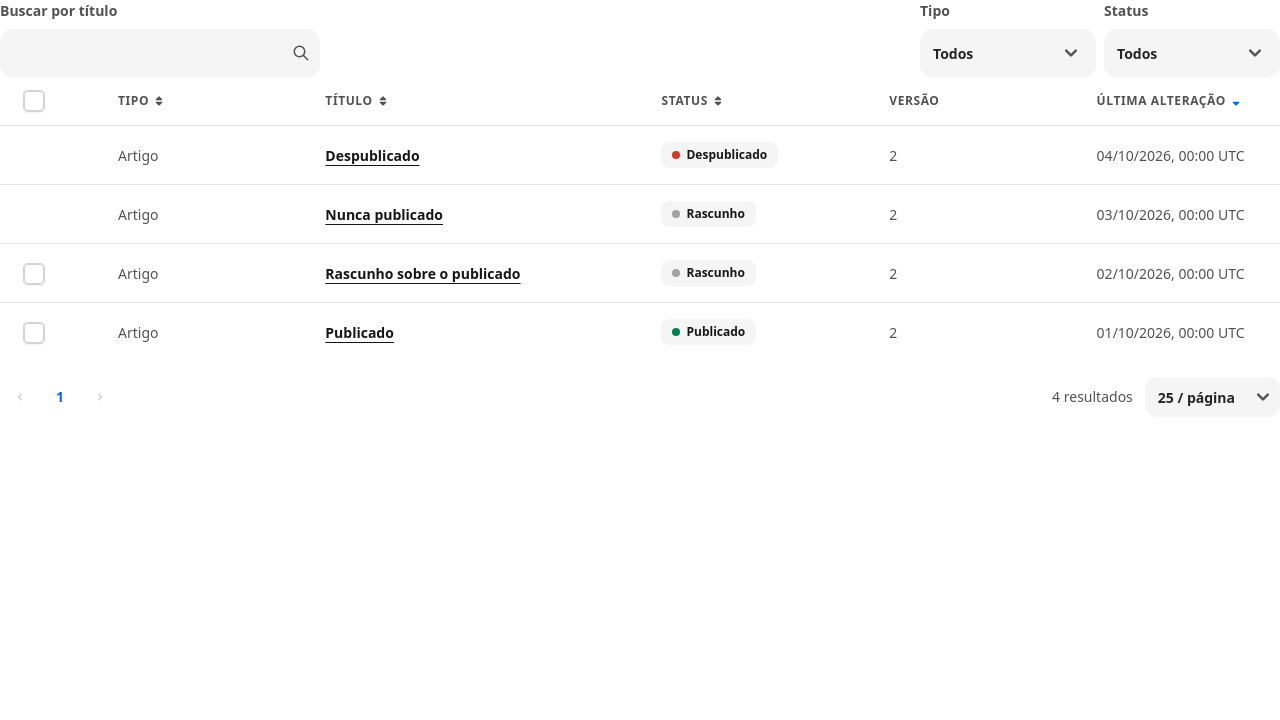
Test case: despublicar em massa (#495) › a recusa do lote vai para o Alert e a seleção fica
The width and height of the screenshot is (1280, 720).
Step 1. Click the checkbox named "Selecionar Publicado" → (34, 333), box left=24, top=323, right=44, bottom=343
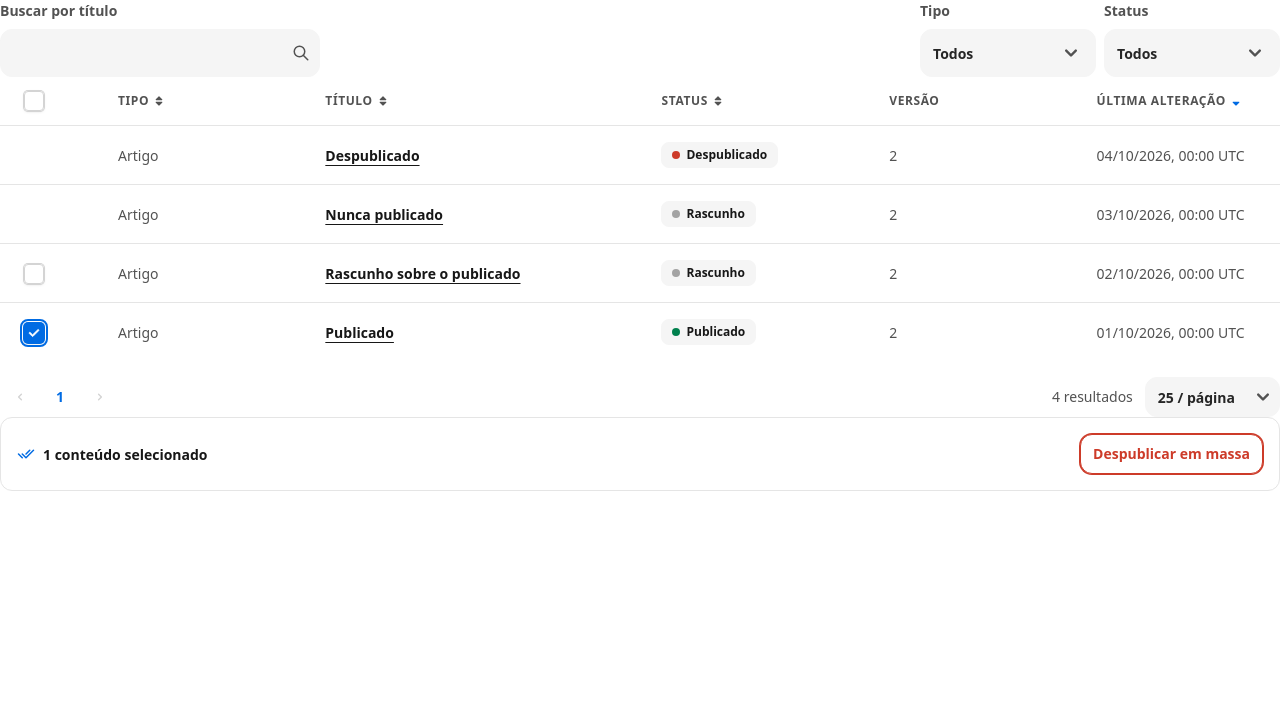
Step 2. Click the button "Despublicar em massa" → (1172, 454), box left=1080, top=434, right=1263, bottom=474
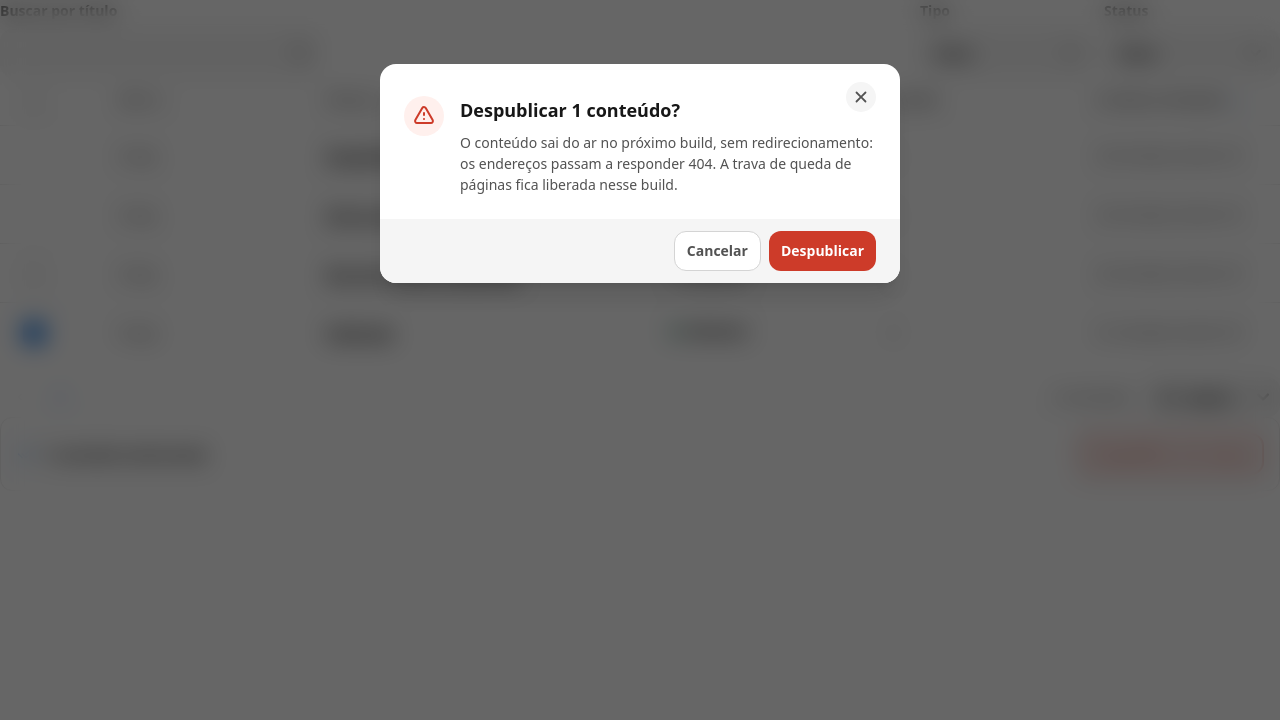
Step 3. Click the button "Despublicar" → (822, 251), box left=769, top=231, right=876, bottom=271
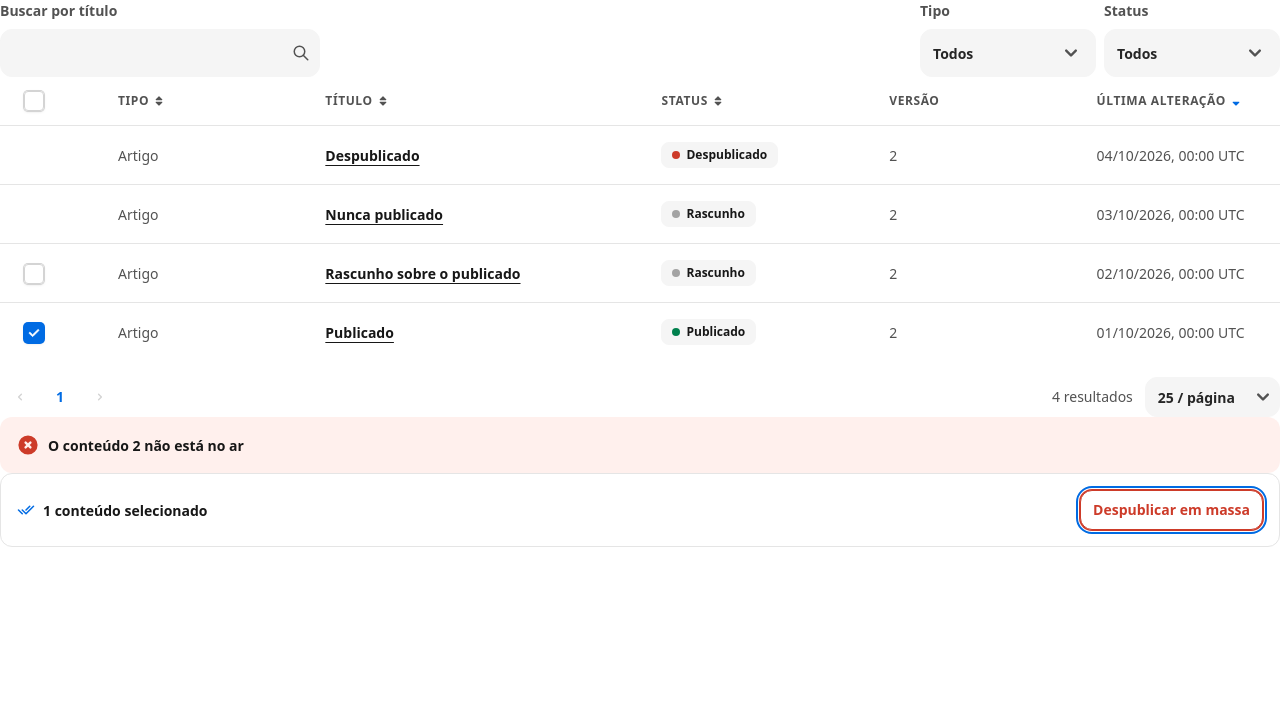
Now the text "1 conteúdo selecionado" is shown, box left=43, top=500, right=208, bottom=520
Now the message "O conteúdo 2 não está no ar" is shown, box left=0, top=417, right=1279, bottom=473
